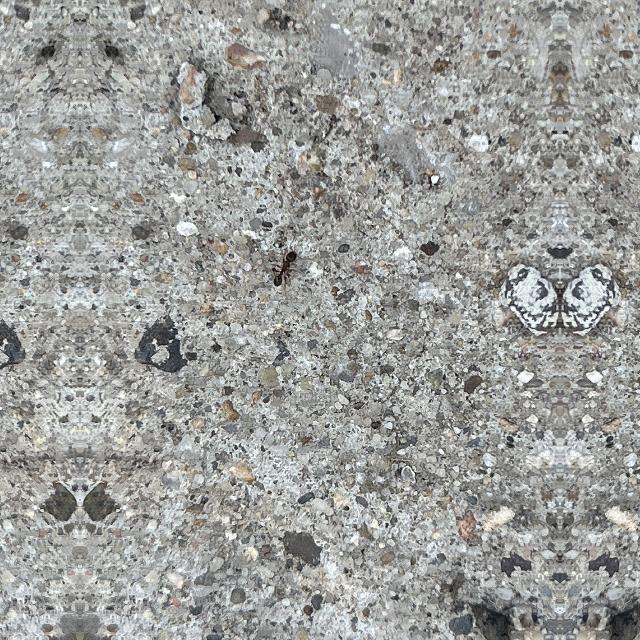Tetramorium: (269, 245, 303, 291)
